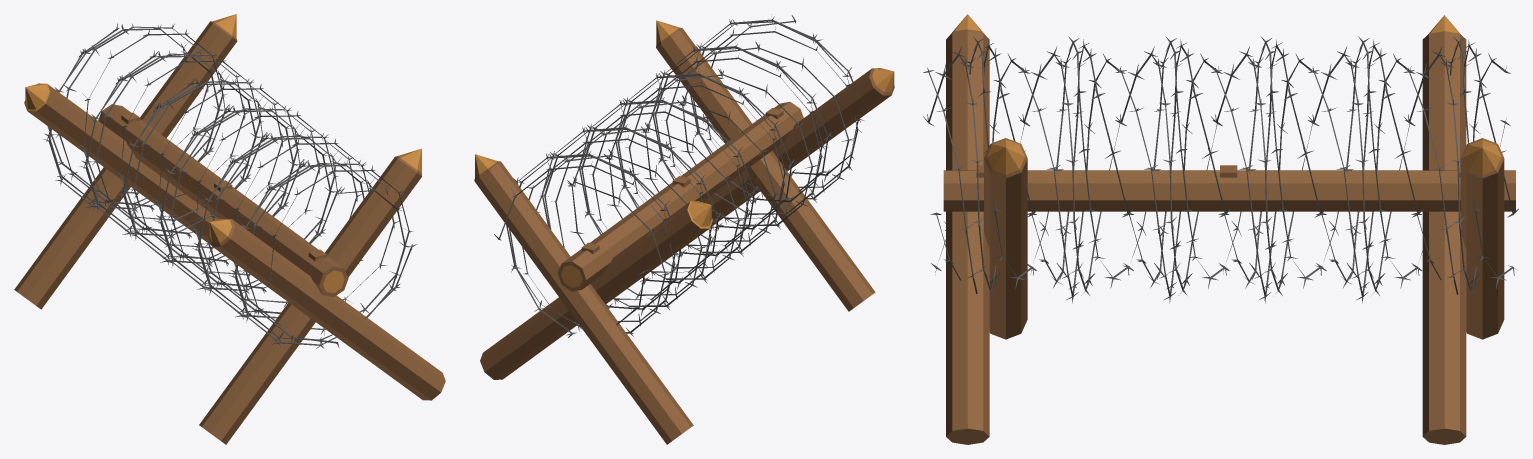
Rendered from Barbed_Wire_Wooden_Baricade.fbx.
3 views of the same model, side by side, from view 1: azimuth 30°, elevation 25°; view 2: azimuth 150°, elevation 25°; view 3: azimuth 270°, elevation 25° (orthographic). The views are drawn at different scales.
Visible parts, largest first — view 1: Barbed Wire Wooden Baricade; view 2: Barbed Wire Wooden Baricade; view 3: Barbed Wire Wooden Baricade.
Boxes of the visible parts, x1=… form: Barbed Wire Wooden Baricade: x1=14, y1=14, x2=445, y2=444; Barbed Wire Wooden Baricade: x1=474, y1=14, x2=894, y2=444; Barbed Wire Wooden Baricade: x1=923, y1=14, x2=1518, y2=444.
Size of the model in its own units: 407 by 448 by 699.
